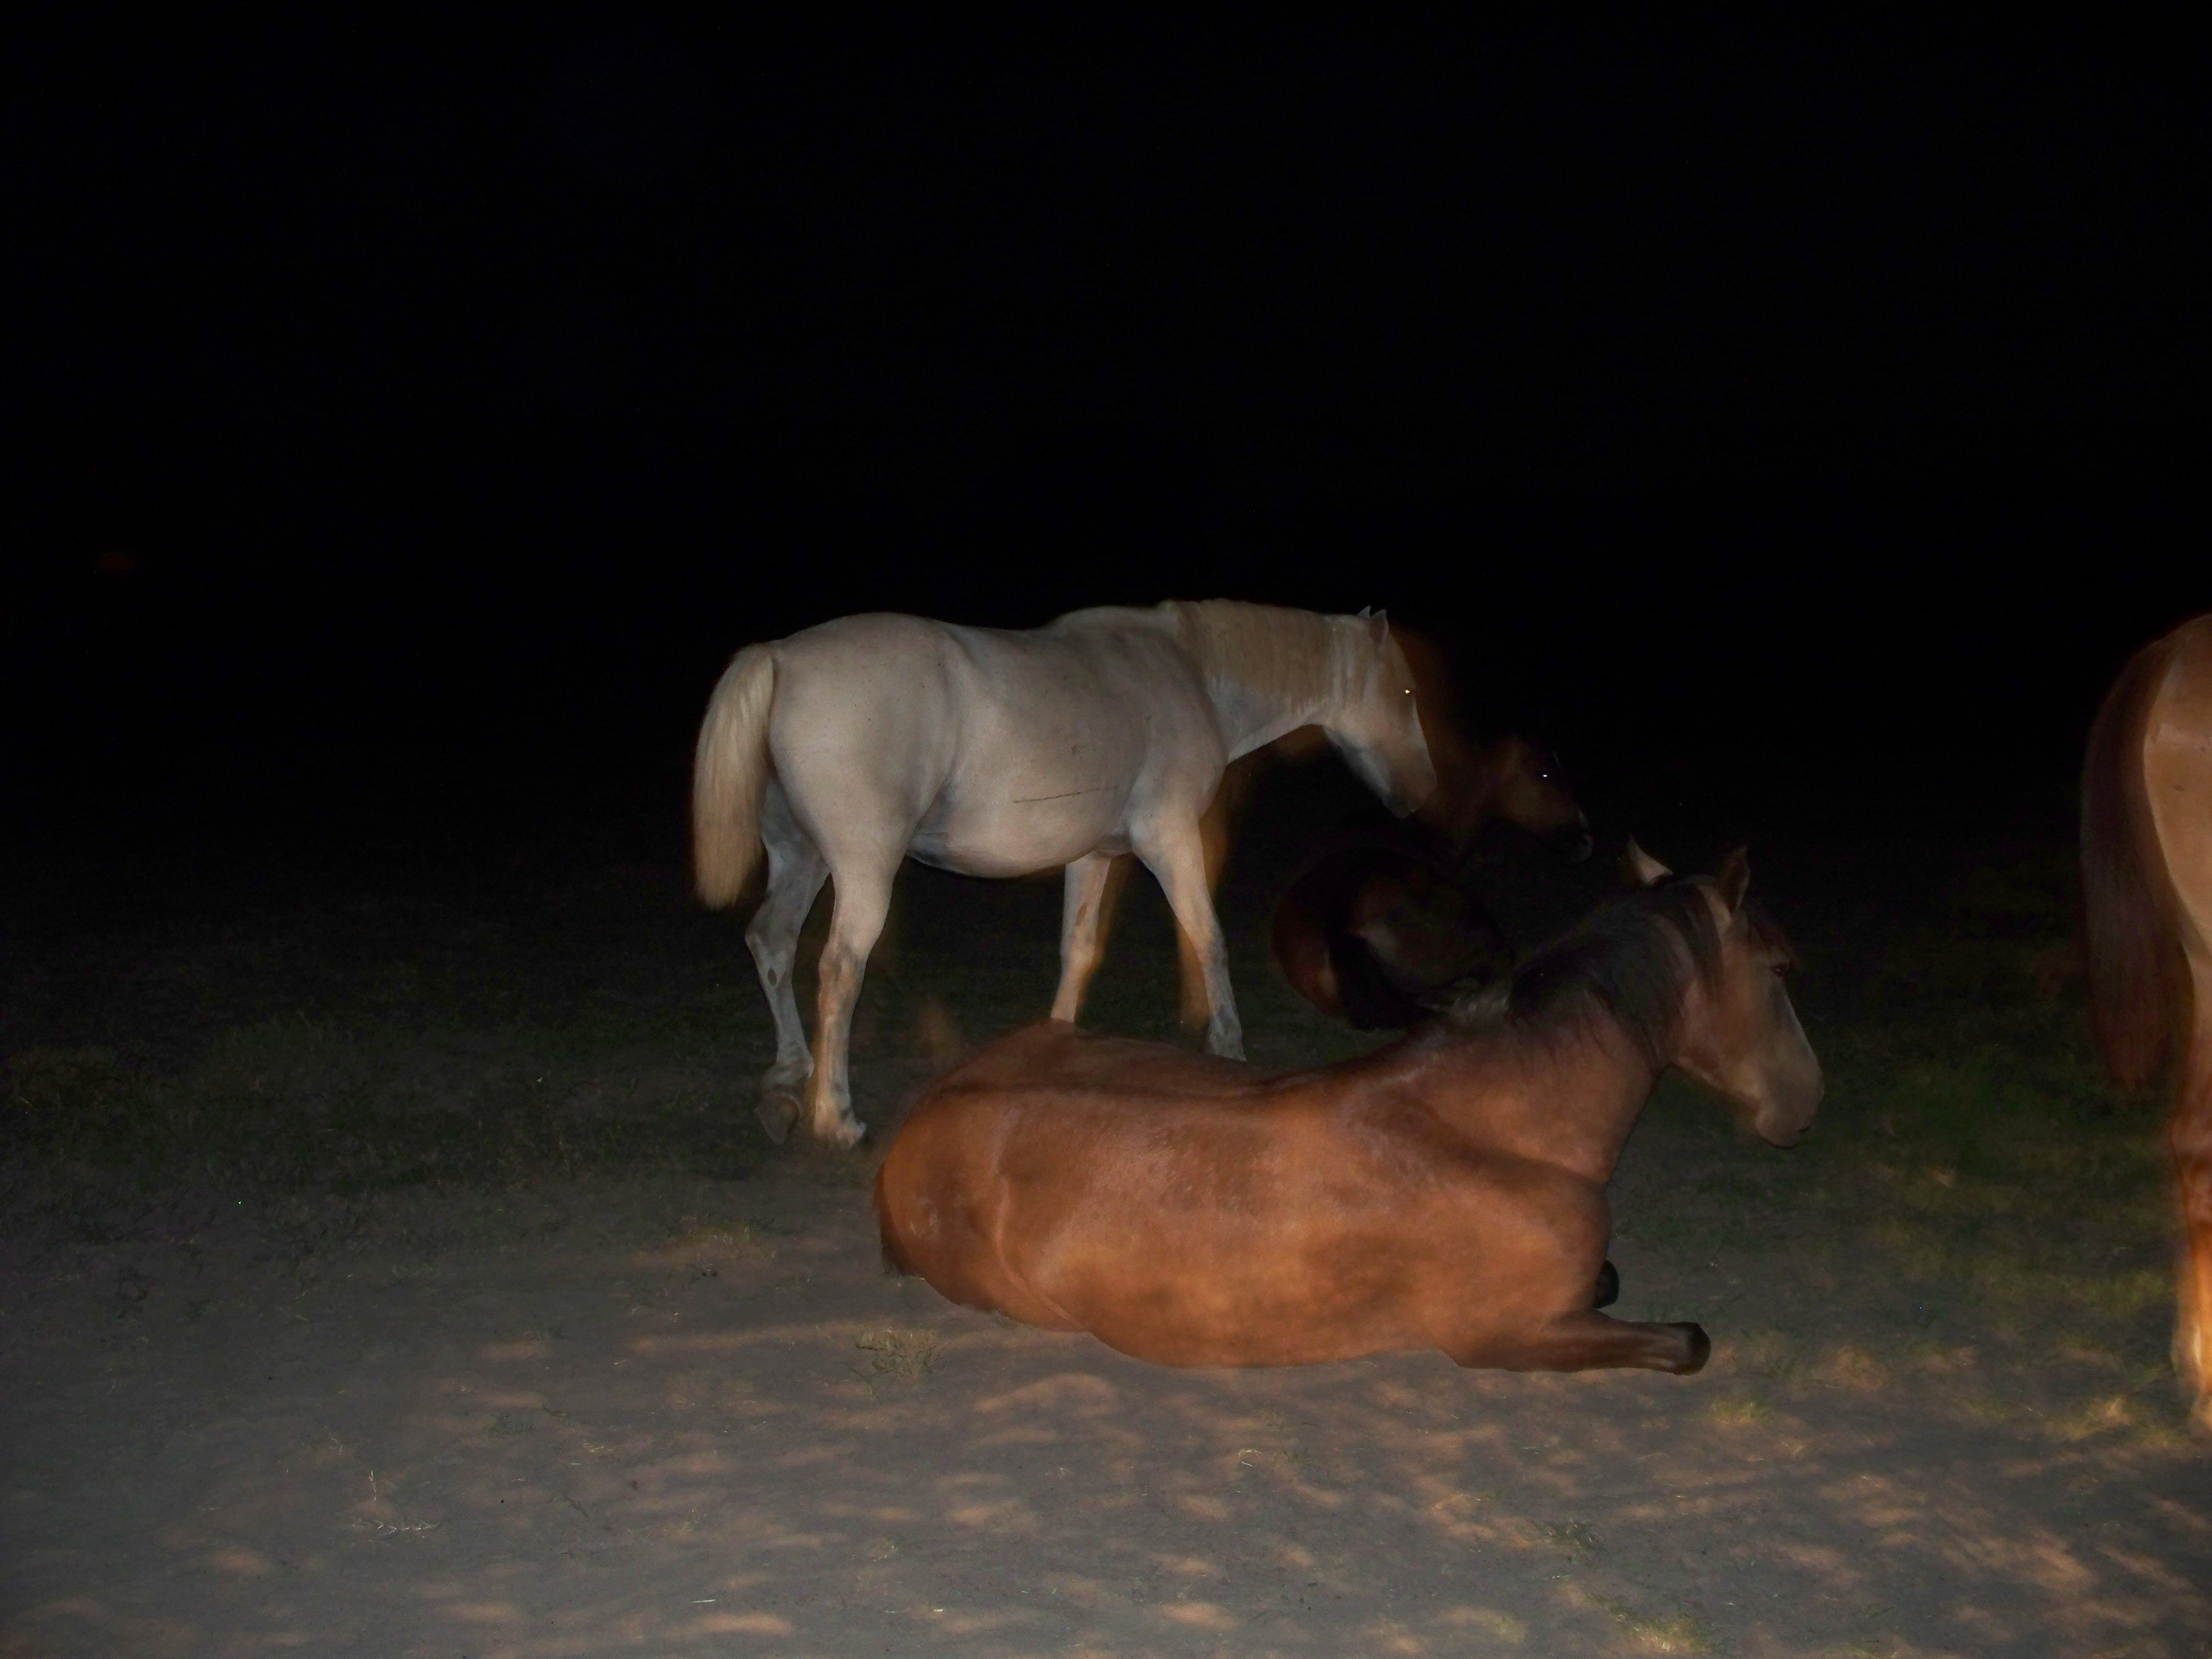Horse: (885, 789, 1883, 1466), (660, 538, 1461, 1049), (1275, 645, 1838, 1039), (2017, 535, 2212, 1500)
